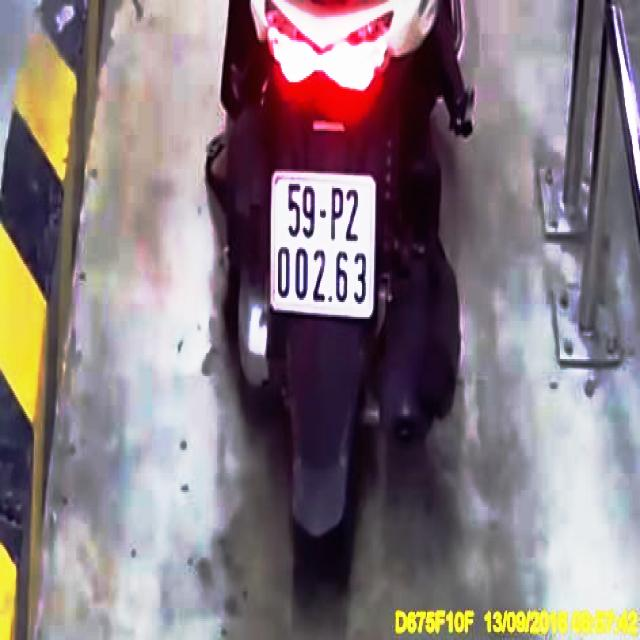license_plate: (274, 176, 373, 313)
